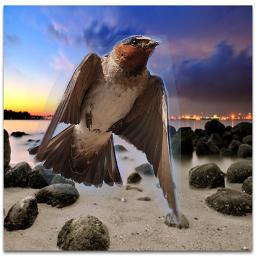Swallow: (29, 35, 181, 224)
